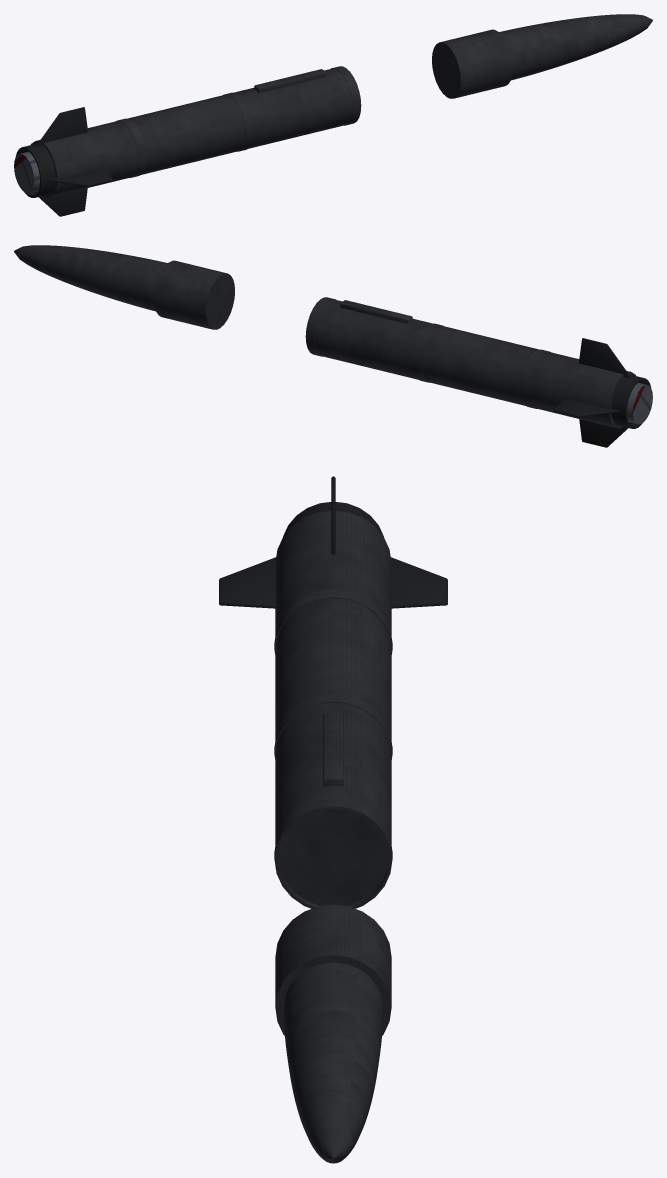
File: mun_pen.glb
The picture shows the model from 3 angles, top to bottom: view 1: azimuth 30°, elevation 25°; view 2: azimuth 150°, elevation 25°; view 3: azimuth 270°, elevation 25°; orthographic projection. The views are drawn at different scales.
Visible parts, largest first — view 1: mun_pen; view 2: mun_pen; view 3: mun_pen.
Part boxes in pixels (box(x1,y1,x2,y2)): mun_pen: box(14, 14, 652, 216); mun_pen: box(14, 245, 652, 447); mun_pen: box(219, 476, 447, 1163).
Bounding box in the file's own units: 3.87 × 0.6108 × 0.6108.
3 materials, 2 textured.
